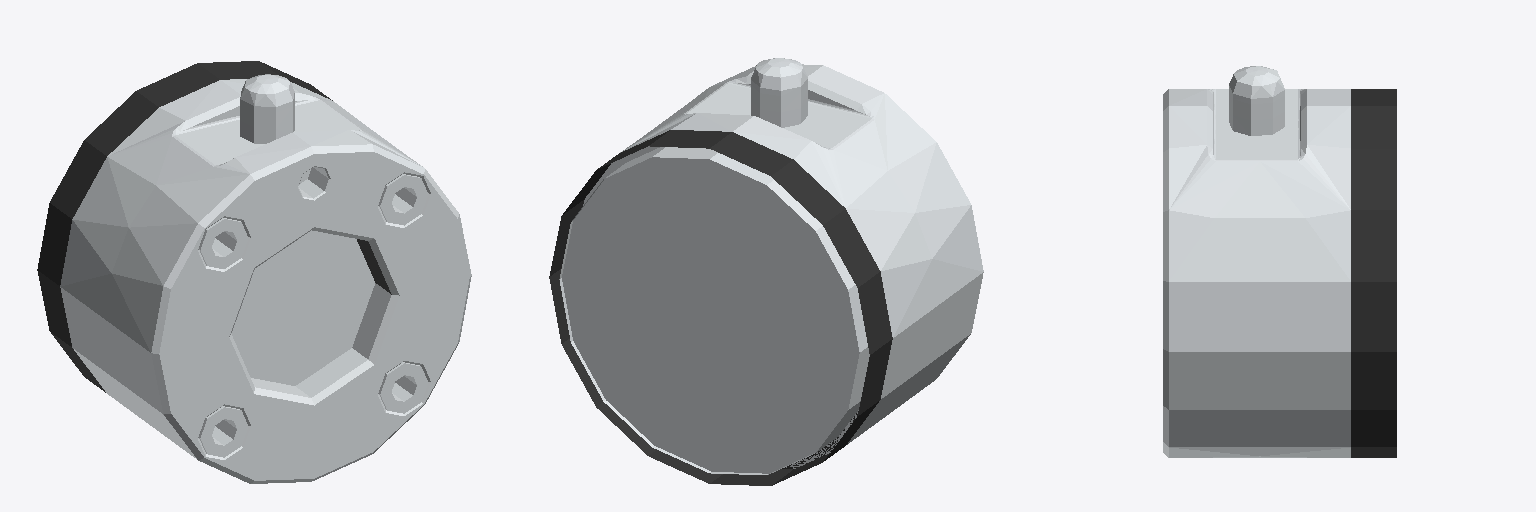
Rendered from URjoint6.obj.
3 views of the same model, side by side, from view 1: azimuth 30°, elevation 25°; view 2: azimuth 150°, elevation 25°; view 3: azimuth 270°, elevation 25° (orthographic).
Parts seen in each view (by area): view 1: joint6; view 2: joint6; view 3: joint6.
Boxes of the visible parts, box(x1,y1,x2,y2) form: joint6: box(37, 61, 471, 483); joint6: box(549, 58, 983, 485); joint6: box(1163, 66, 1396, 457).
Bounding box in the file's own units: 63 × 69.6 × 39.8.